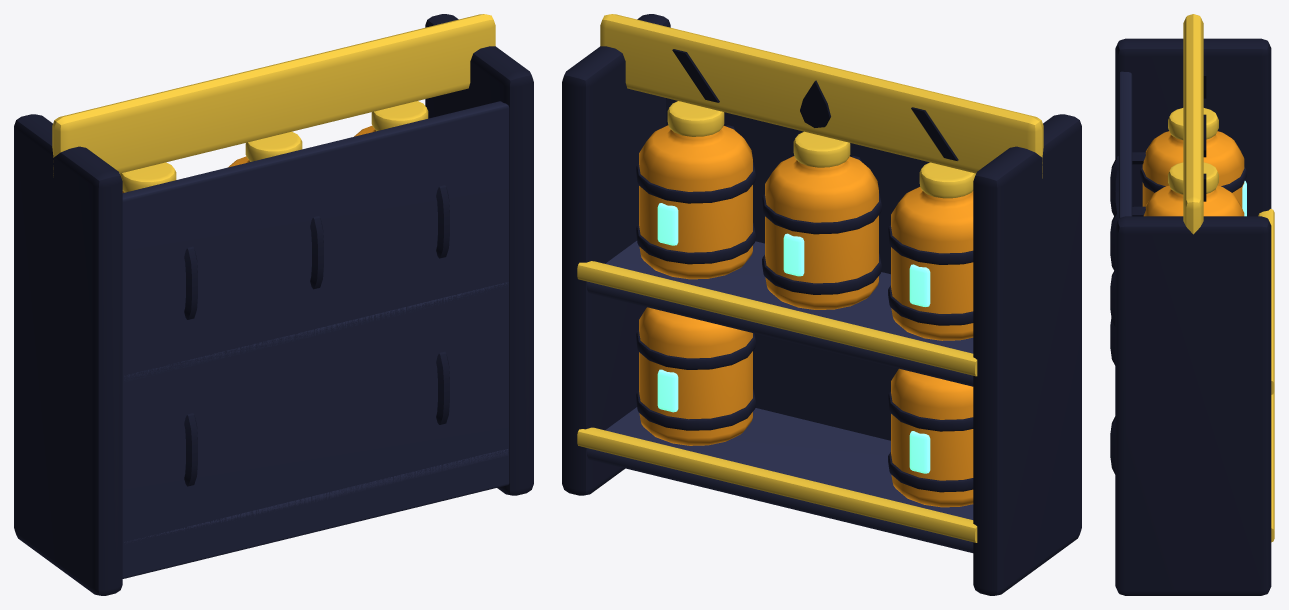
File: canister_rack.glb
The picture shows the model from 3 angles, left to right: view 1: azimuth 30°, elevation 25°; view 2: azimuth 150°, elevation 25°; view 3: azimuth 270°, elevation 25°; orthographic projection. The views are drawn at different scales.
Visible parts, largest first — view 1: Body; view 2: Body; view 3: Body.
Boxes of the visible parts, x1,y1,x2,y2 form: Body: (14,14,533,595); Body: (562,14,1081,595); Body: (1110,14,1274,595).
Bounding box in the file's own units: 1.33 × 1.3 × 0.4856.
